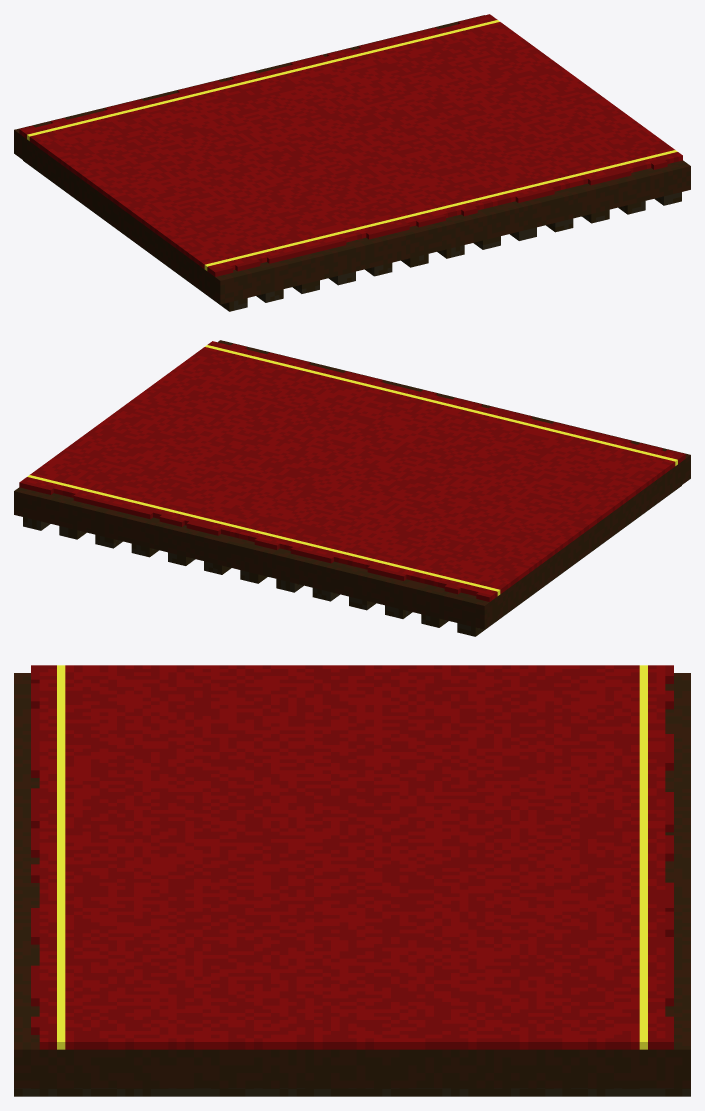
Rendered from castleplatform.obj.
3 views of the same model, one above another, from view 1: azimuth 30°, elevation 25°; view 2: azimuth 150°, elevation 25°; view 3: azimuth 270°, elevation 25° (orthographic). The views are drawn at different scales.
Bounding box in the file's own units: 10.4 × 0.8 × 7.9.
1 material, 1 textured.
